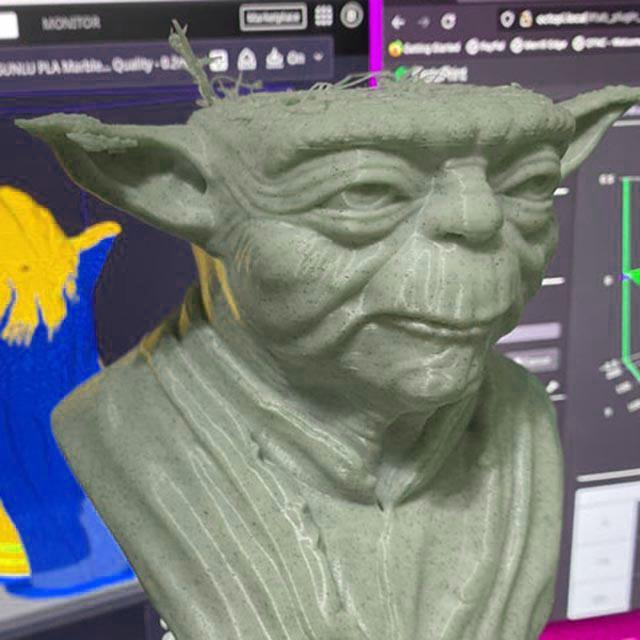Spaghetti: (168, 17, 264, 105), (302, 66, 440, 105)
